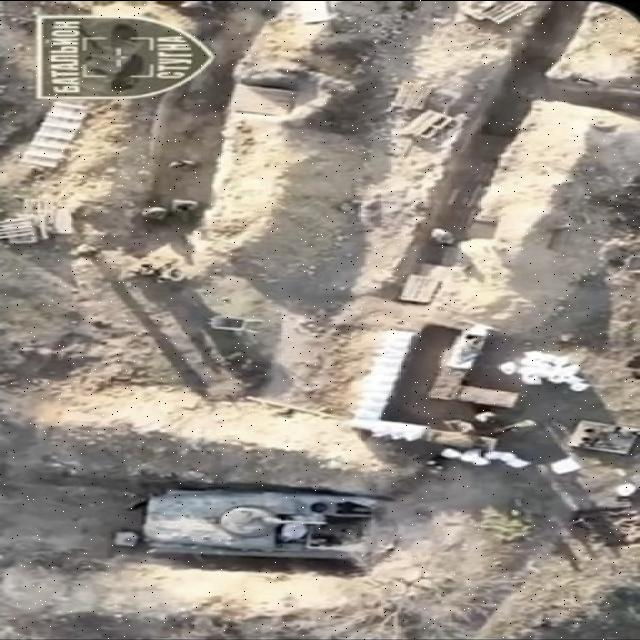APC-IFV: (136, 490, 387, 562)
